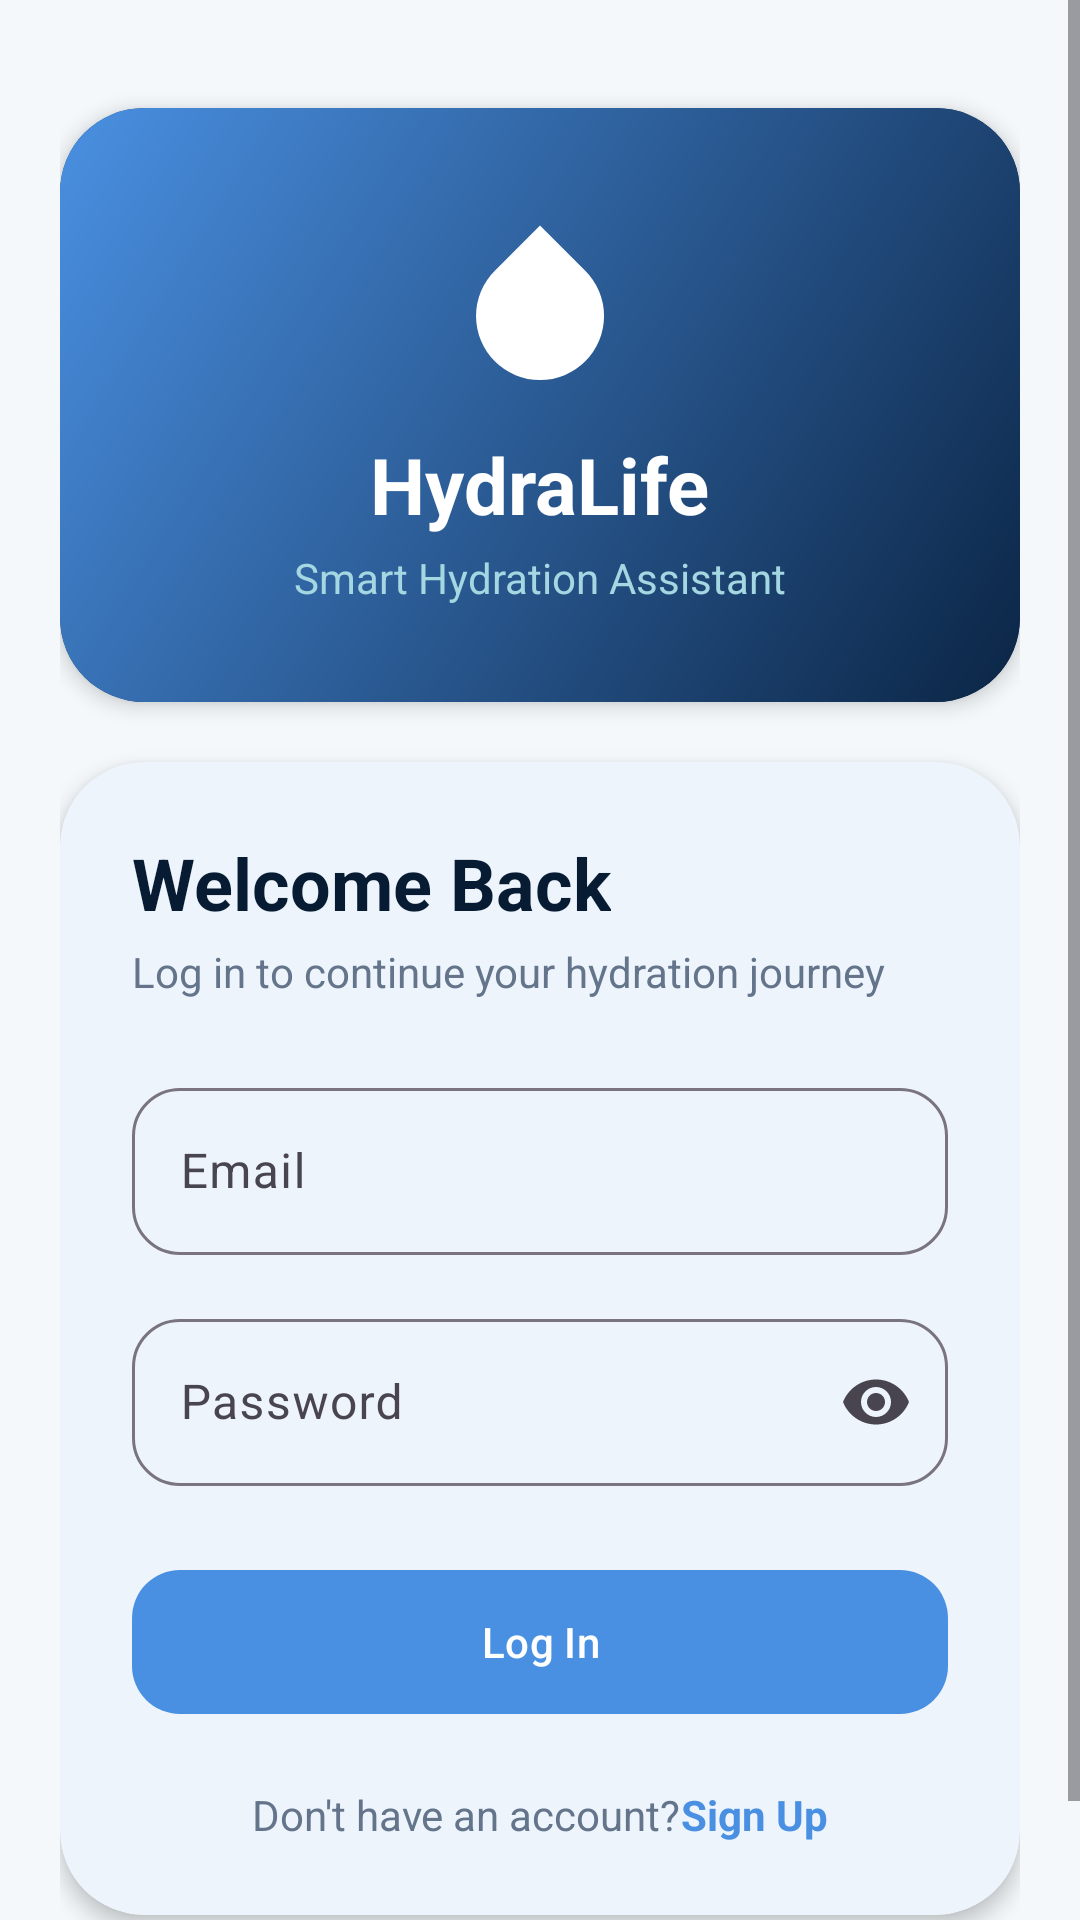

Icon bounding boxes for this 1080*1920 phone screenshot, format (x1, y1, x2, y2):
water drop: (476, 225, 604, 380)
